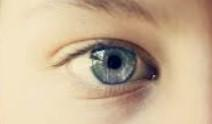eye: (91, 47, 138, 85)
